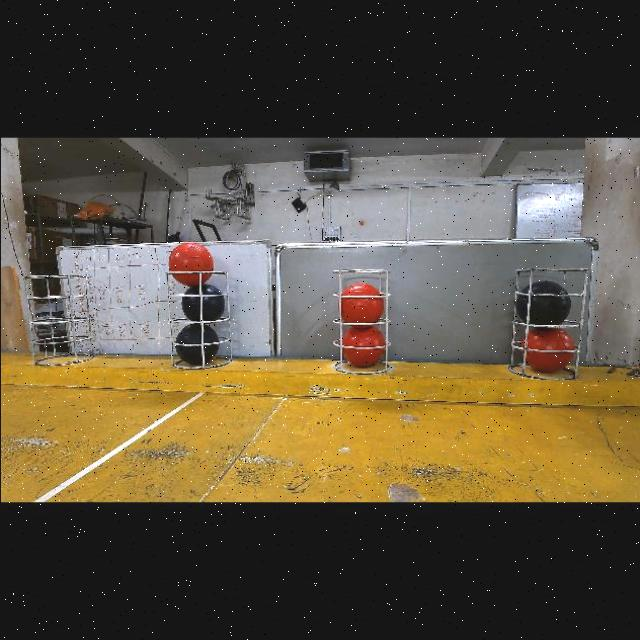P: (514, 280, 570, 325), (174, 322, 218, 365), (180, 282, 225, 320)
R: (521, 327, 575, 372), (168, 242, 213, 285), (341, 325, 384, 367), (341, 281, 383, 323)
S: (505, 260, 587, 380), (164, 265, 232, 373), (28, 270, 88, 372), (344, 267, 390, 367)
